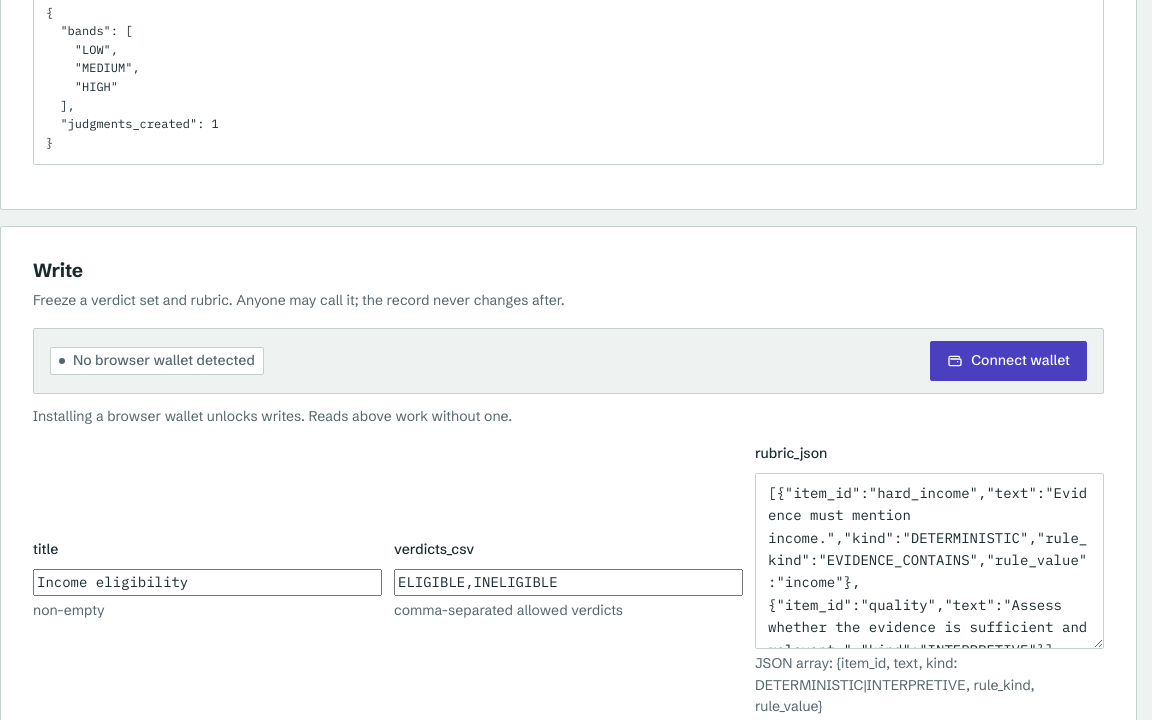
Test: LiveScreen writes › connects the wallet and reports the connected address
(page scrolled)
Click the button "Connect wallet".
click(1009, 361)  # box [930,341,1087,380]
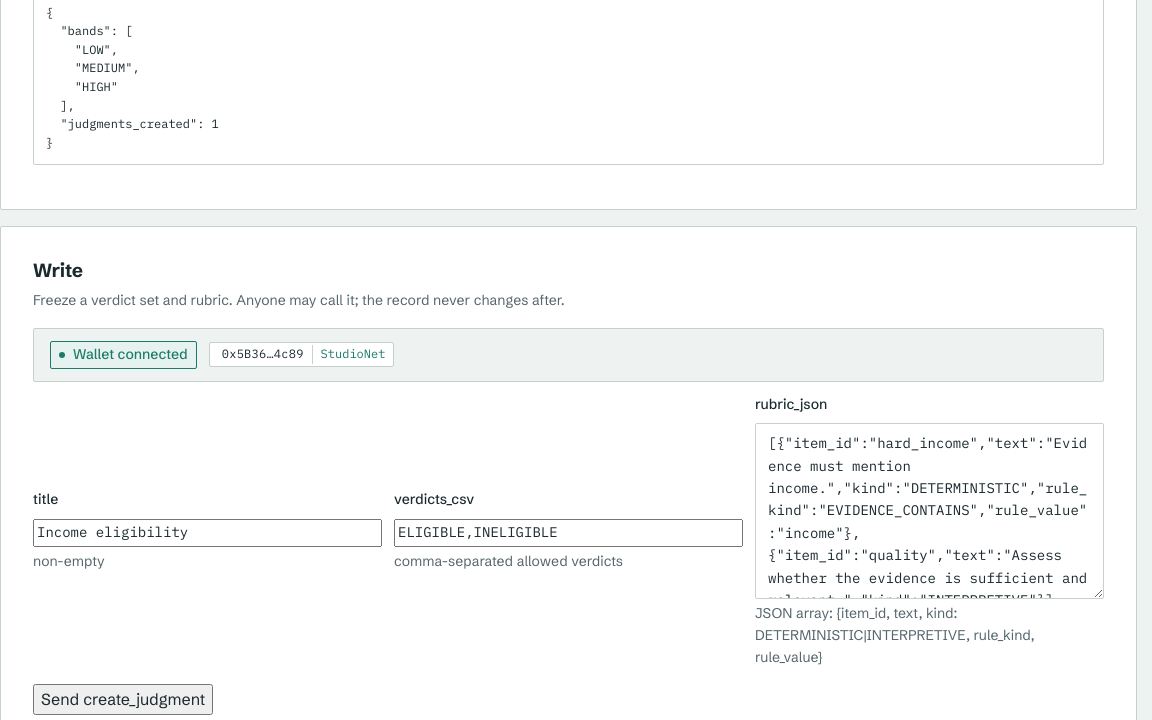
Check: the text "Wallet connected" is shown, box [50,341,197,368]
Check: the text "0x5B36…4c89" is shown, box [222,345,304,364]
